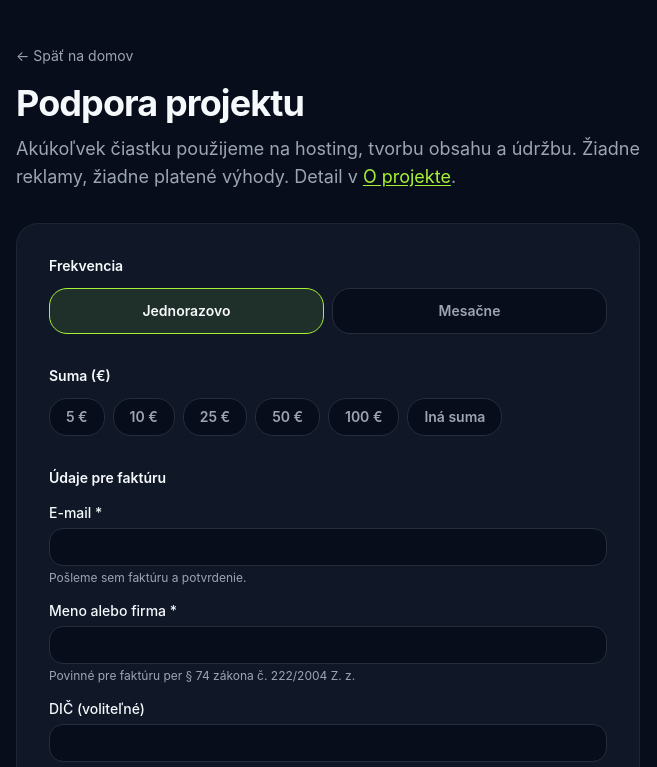
it: DonateForm (/podpora) › surfaces server error message and stays on the form
Click the radio button labelled "10 €" at (144, 417), box [113, 398, 175, 436]
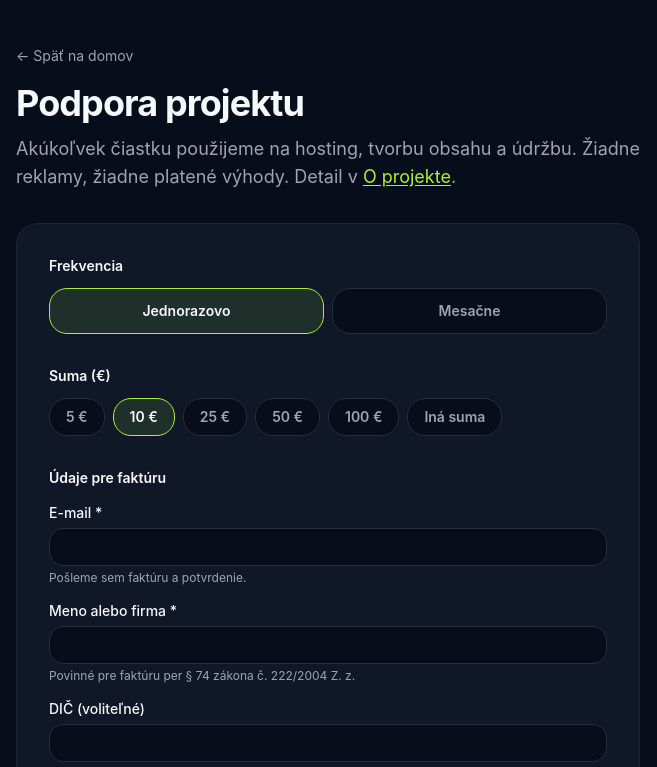
Type "anna@example.test" into the field labelled "E-mail *" at (328, 547), box [49, 528, 607, 566]
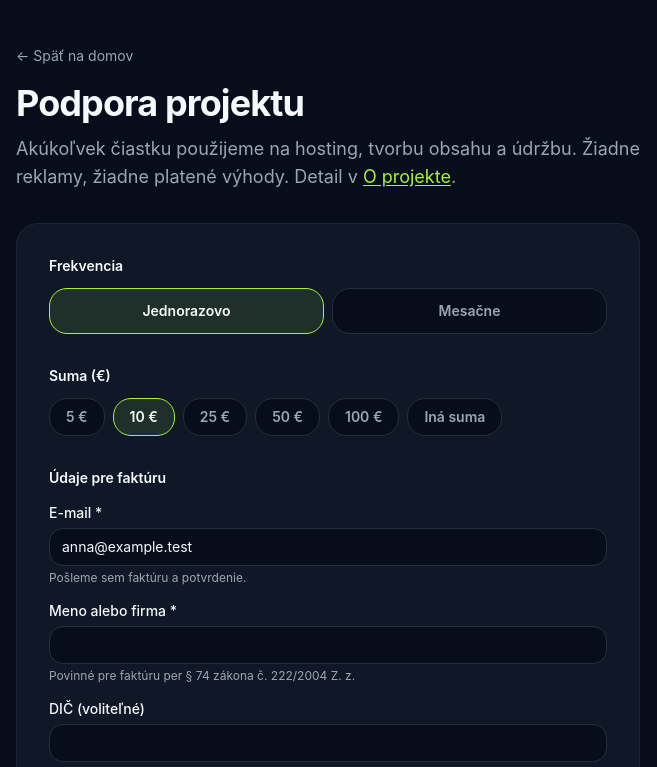
Type "Anna Testovacia" into the field labelled "Meno alebo firma *" at (328, 645), box [49, 626, 607, 664]
(page scrolled)
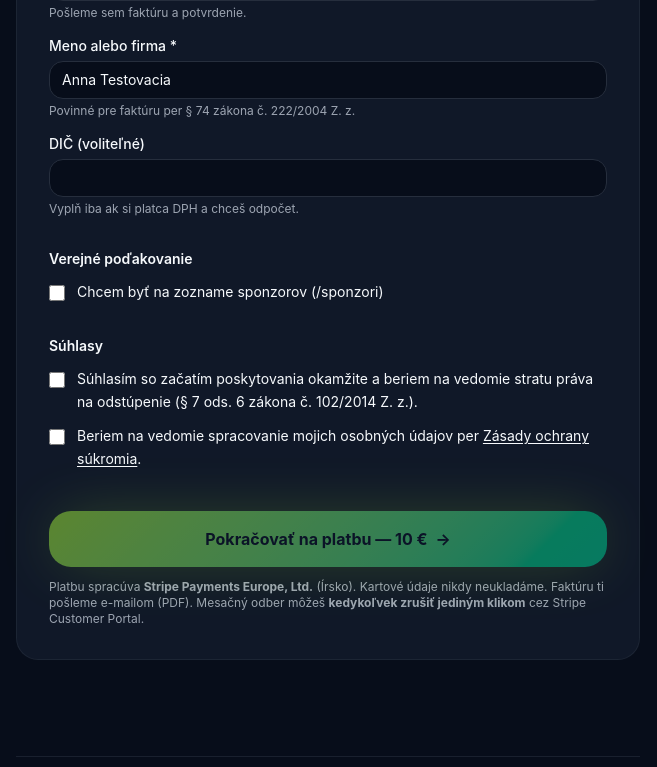
Click the checkbox labelled "začatím poskytovania okamžite" at (57, 380), box [49, 372, 65, 388]
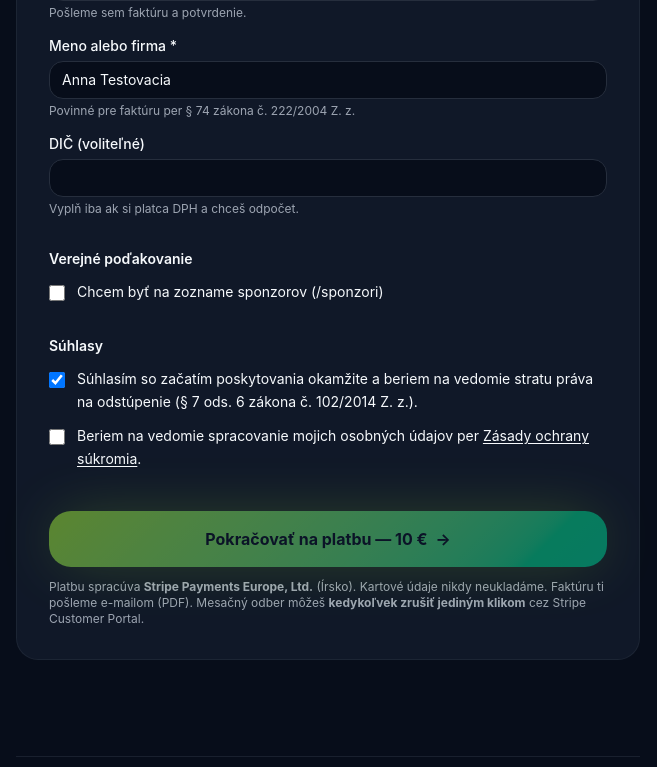
Click the checkbox labelled "spracovanie mojich osobných údajov" at (57, 437), box [49, 429, 65, 445]
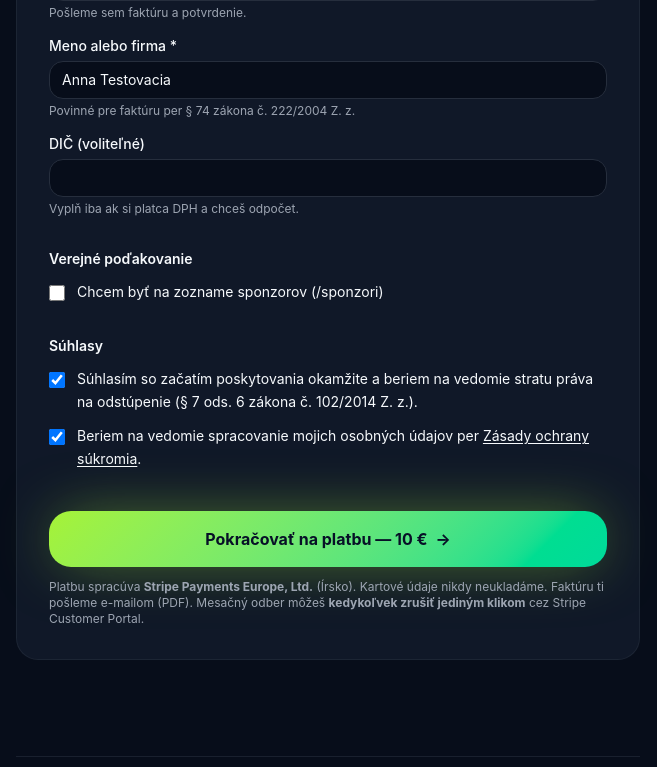
Click the button "Pokračovať na platbu — 10 € →" at (328, 539), box [49, 511, 607, 567]
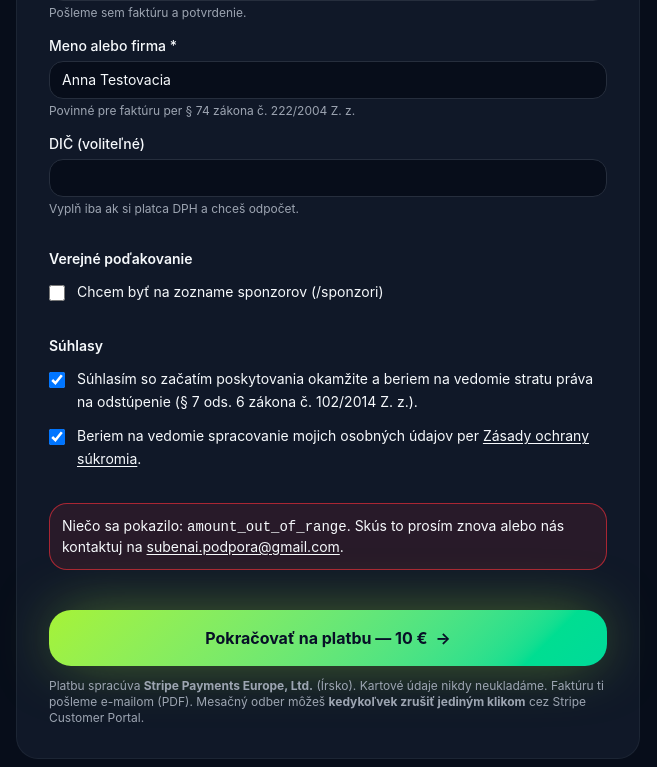
expect the message is shown: met, box [49, 503, 607, 570]
expect the message shows "amount_out_of_range": met, box [187, 519, 347, 535]
